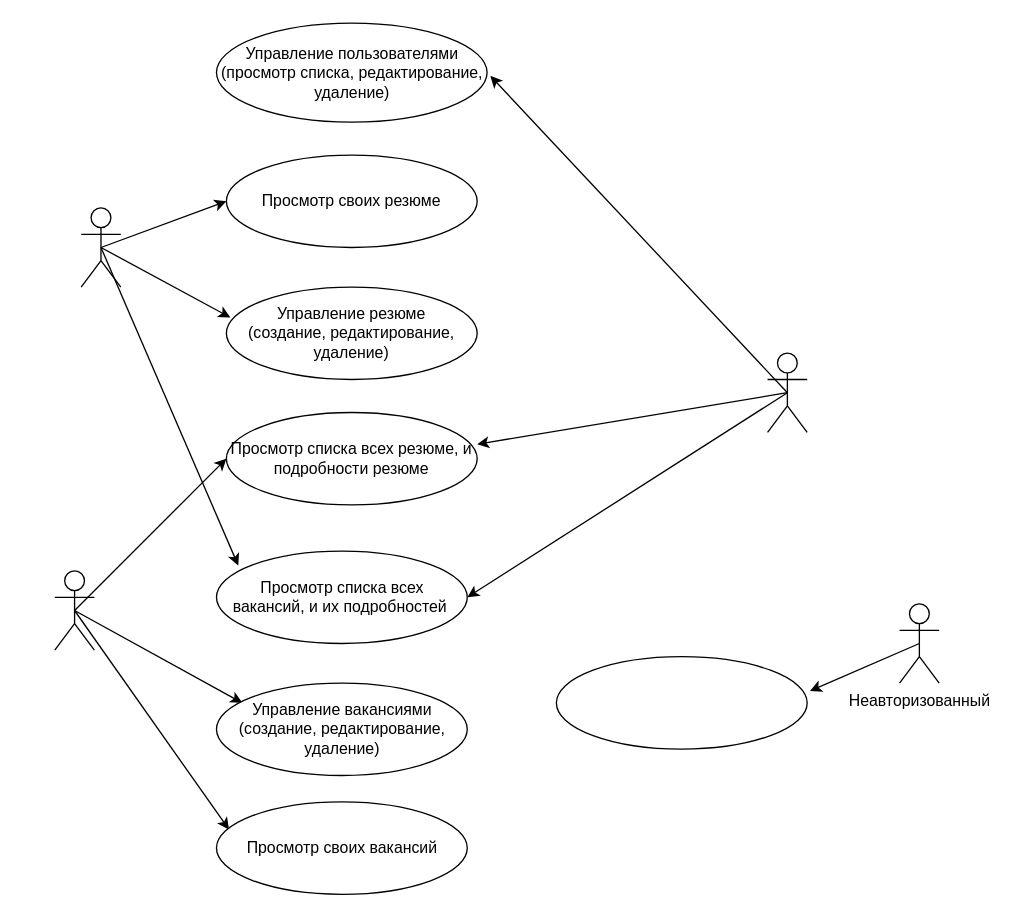
Some shapes in this 1012 by 917 pixel diagram are drawn without their labels. Each missing label, with the centre of its shape:
Авторизация и регистрация: point 681,702
Администратор: point 786,392
Работодатель: point 73,610
Соискатель: point 100,247
